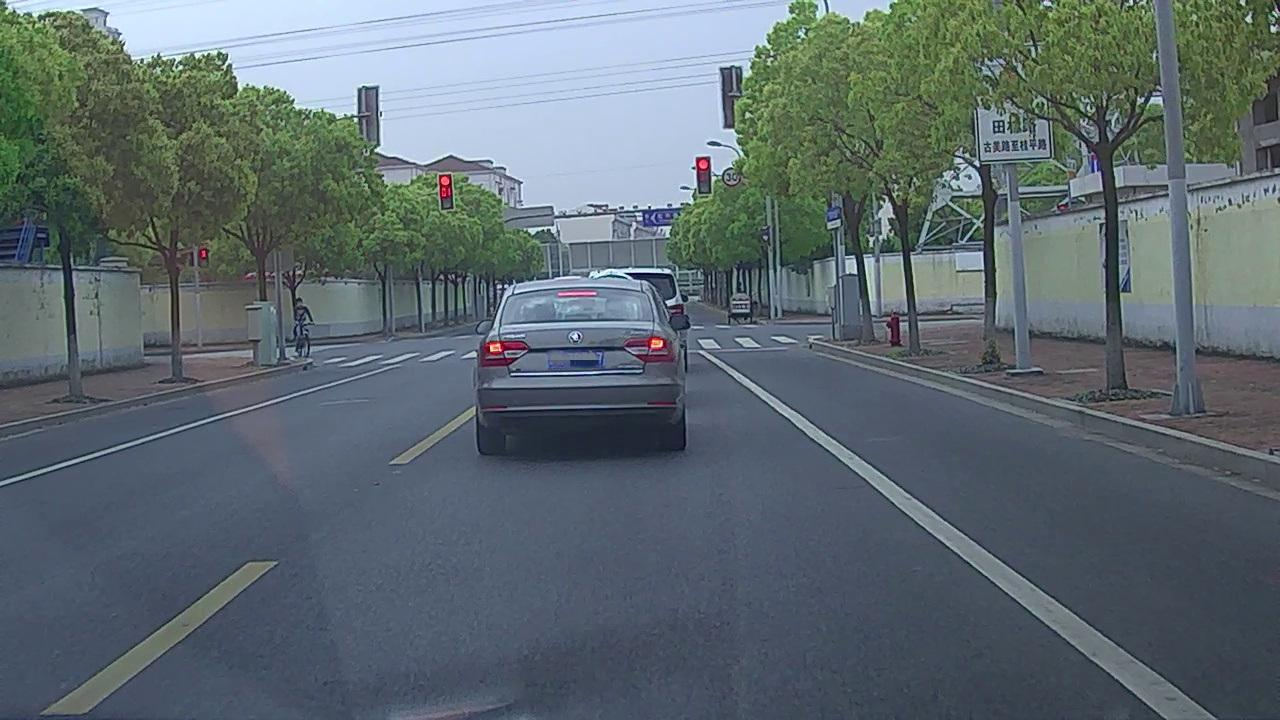traffic_light: (439, 172, 454, 212), (696, 156, 711, 195)
